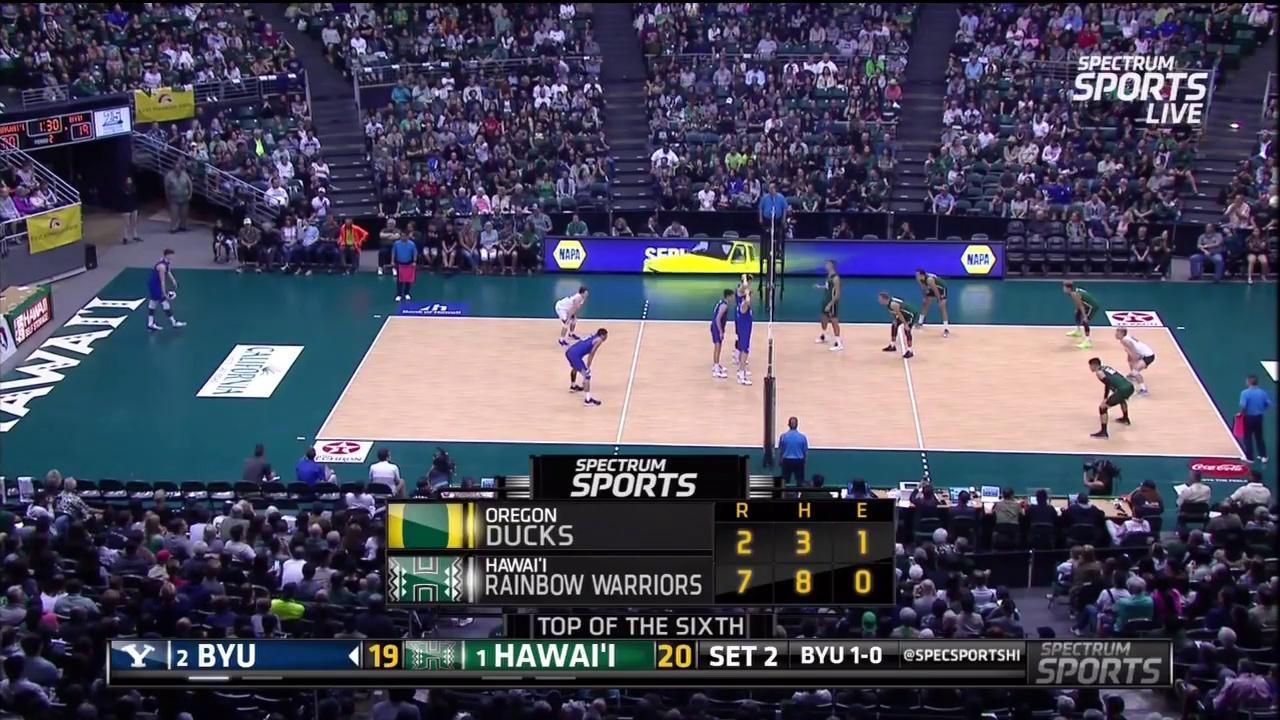player: (1086, 358, 1136, 437), (561, 326, 611, 401), (146, 249, 185, 334), (703, 284, 737, 381), (1113, 326, 1158, 393), (731, 288, 758, 389), (552, 286, 595, 348), (1064, 282, 1102, 350), (733, 269, 758, 366), (880, 296, 917, 361), (817, 260, 843, 347), (916, 268, 948, 335)
refree: (1234, 372, 1272, 463), (760, 180, 791, 252), (779, 413, 808, 485), (393, 228, 419, 303)
